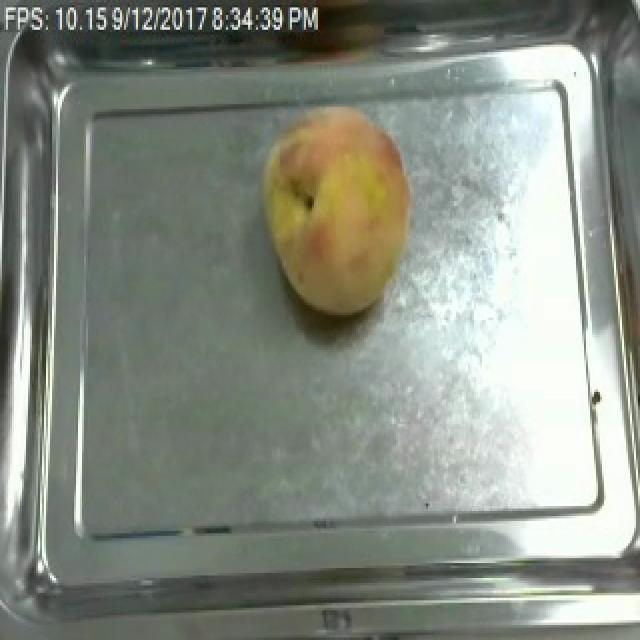Fruit: (250, 97, 424, 322)
